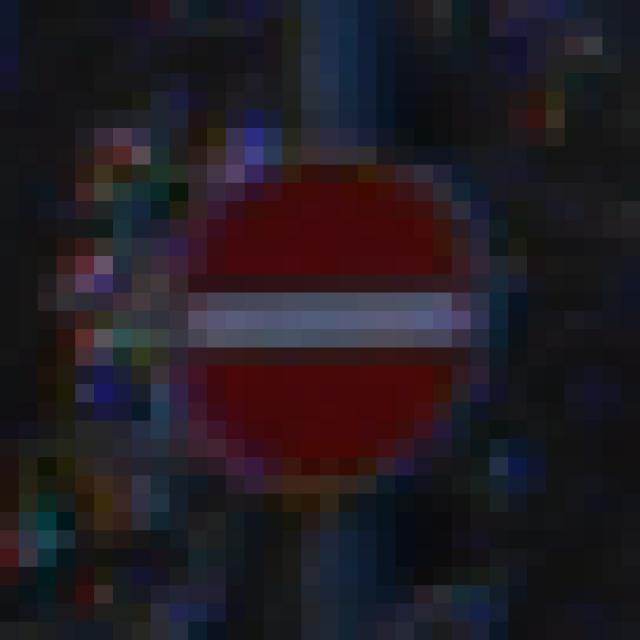No Entry: (114, 93, 547, 550)
